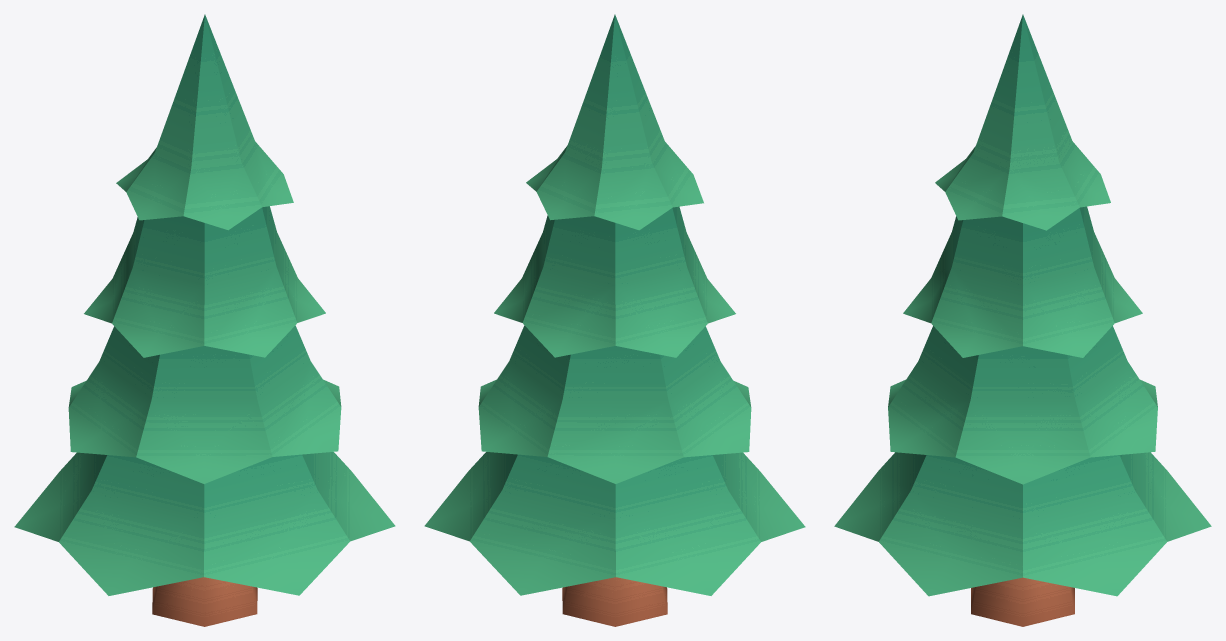
Rendered from pine.001_lev2.glb.
3 renders of one model, left to right at view 1: azimuth 30°, elevation 25°; view 2: azimuth 150°, elevation 25°; view 3: azimuth 270°, elevation 25°, orthographic.
Parts seen in each view (by area): view 1: pine.001_lev2; view 2: pine.001_lev2; view 3: pine.001_lev2.
Part boxes in pixels (bbox=[...]): pine.001_lev2: bbox=[14, 14, 395, 626]; pine.001_lev2: bbox=[424, 14, 805, 626]; pine.001_lev2: bbox=[834, 14, 1211, 626].
Bounding box in the file's own units: 2.83 × 5.43 × 3.16.
Materials: 1 (1 with a texture image).
